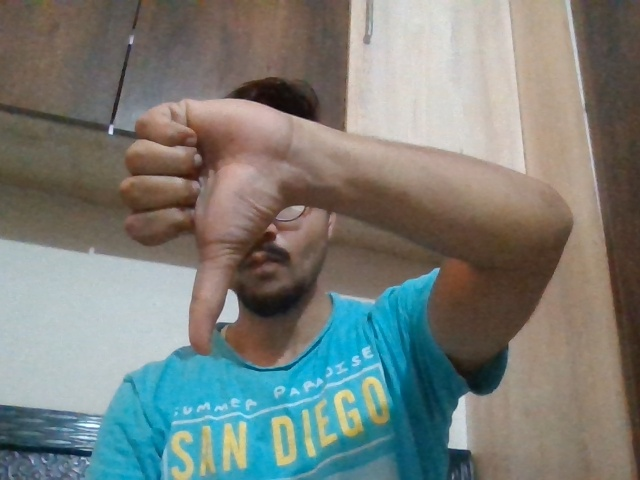no: (116, 97, 293, 350)
